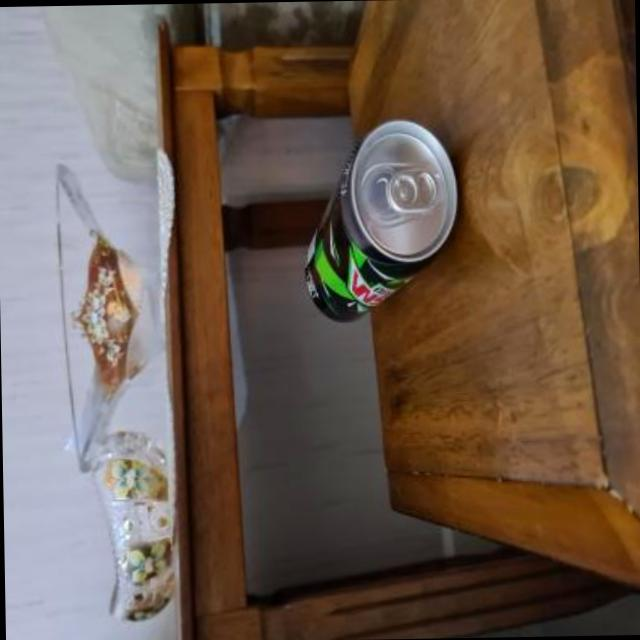metal: (303, 118, 454, 318)
